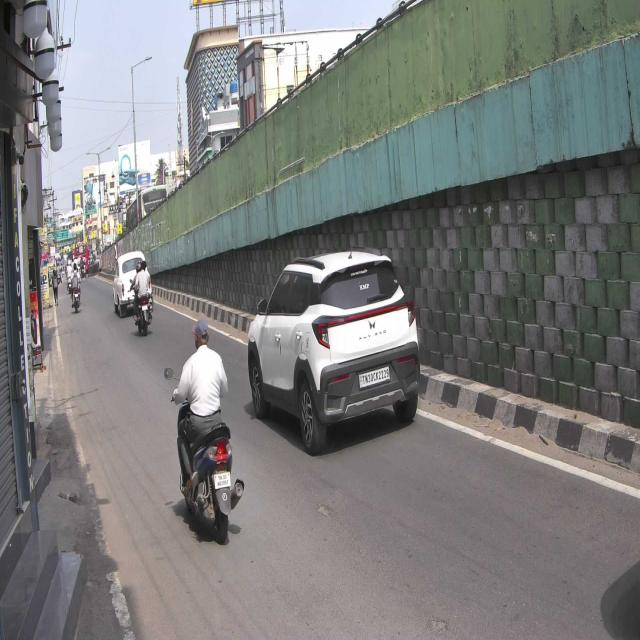single_rider: (170, 309, 247, 545)
